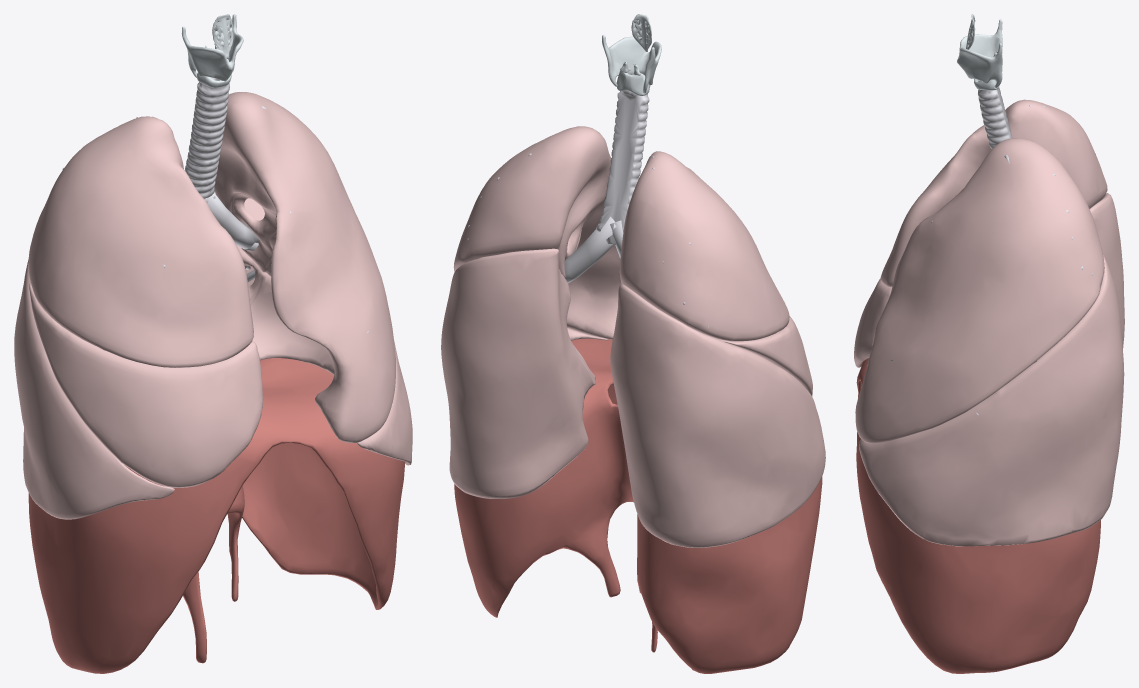
The model's file is respiratory.glb.
3 views of the same model, side by side, from view 1: azimuth 30°, elevation 25°; view 2: azimuth 150°, elevation 25°; view 3: azimuth 270°, elevation 25° (orthographic). The views are drawn at different scales.
Parts seen in each view (by area): view 1: lung-right, diaphragm, lung-left, trachea, larynx, bronchi; view 2: lung-right, lung-left, diaphragm, trachea, larynx, bronchi; view 3: lung-left, diaphragm, lung-right, larynx, trachea.
Boxes of the visible parts, bbox=[...] form: lung-right: bbox=[14, 116, 263, 519]; diaphragm: bbox=[28, 358, 405, 673]; lung-left: bbox=[214, 92, 412, 465]; trachea: bbox=[184, 77, 229, 202]; larynx: bbox=[181, 14, 243, 87]; bronchi: bbox=[62, 106, 368, 333]; lung-right: bbox=[610, 151, 825, 547]; lung-left: bbox=[441, 126, 621, 498]; diaphragm: bbox=[454, 338, 822, 673]; trachea: bbox=[596, 91, 649, 245]; larynx: bbox=[602, 14, 661, 95]; bronchi: bbox=[467, 153, 708, 327]; lung-left: bbox=[855, 138, 1124, 546]; diaphragm: bbox=[856, 358, 1100, 673]; lung-right: bbox=[854, 99, 1124, 367]; larynx: bbox=[957, 14, 1002, 90]; trachea: bbox=[978, 87, 1012, 149].
Bounding box in the file's own units: 0.261 × 0.4682 × 0.1857.
